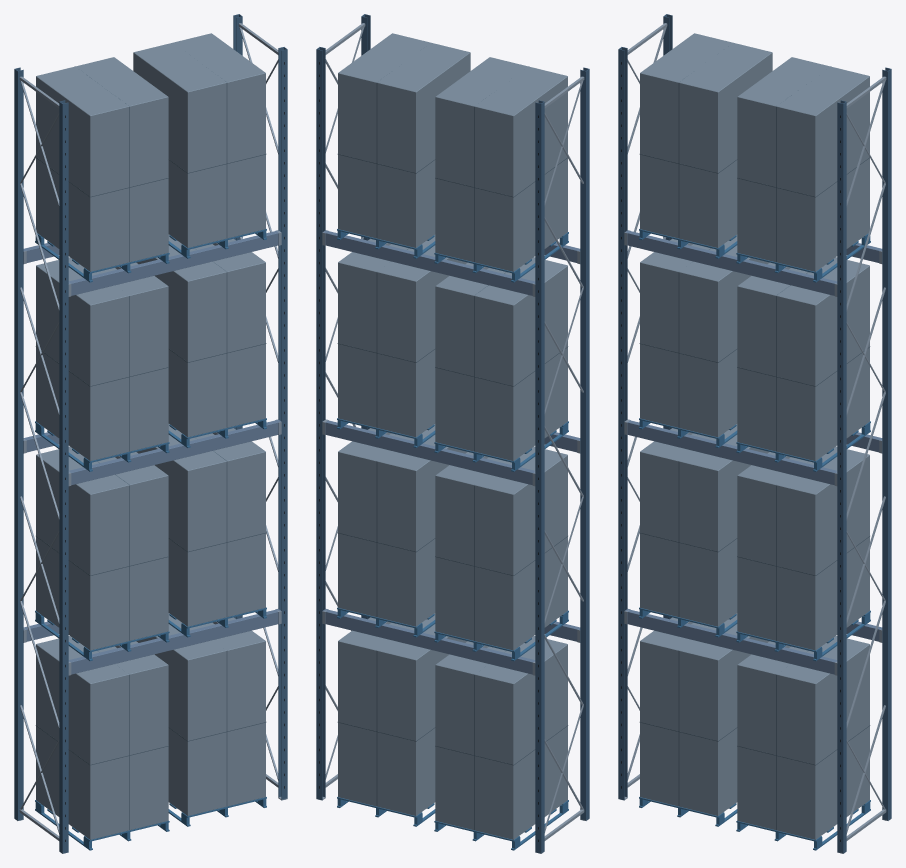
File: SM_GHS_CADRack_A_W28743.fbx
3 renders of one model, left to right at view 1: azimuth 30°, elevation 25°; view 2: azimuth 150°, elevation 25°; view 3: azimuth 330°, elevation 25°, orthographic.
Parts seen in each view (by area): view 1: SM_GHS_CADRack_A_W28743; view 2: SM_GHS_CADRack_A_W28743; view 3: SM_GHS_CADRack_A_W28743.
Boxes of the visible parts, x1,y1,x2,y2 form: SM_GHS_CADRack_A_W28743: (14, 14, 287, 853); SM_GHS_CADRack_A_W28743: (316, 14, 589, 853); SM_GHS_CADRack_A_W28743: (618, 14, 891, 853).
Size of the model in its own units: 287 by 122 by 915.
